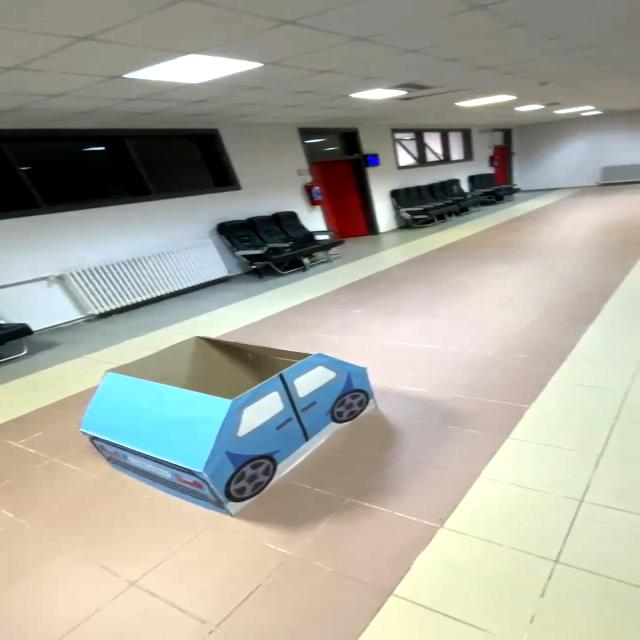blue_car: (53, 326, 427, 528)
